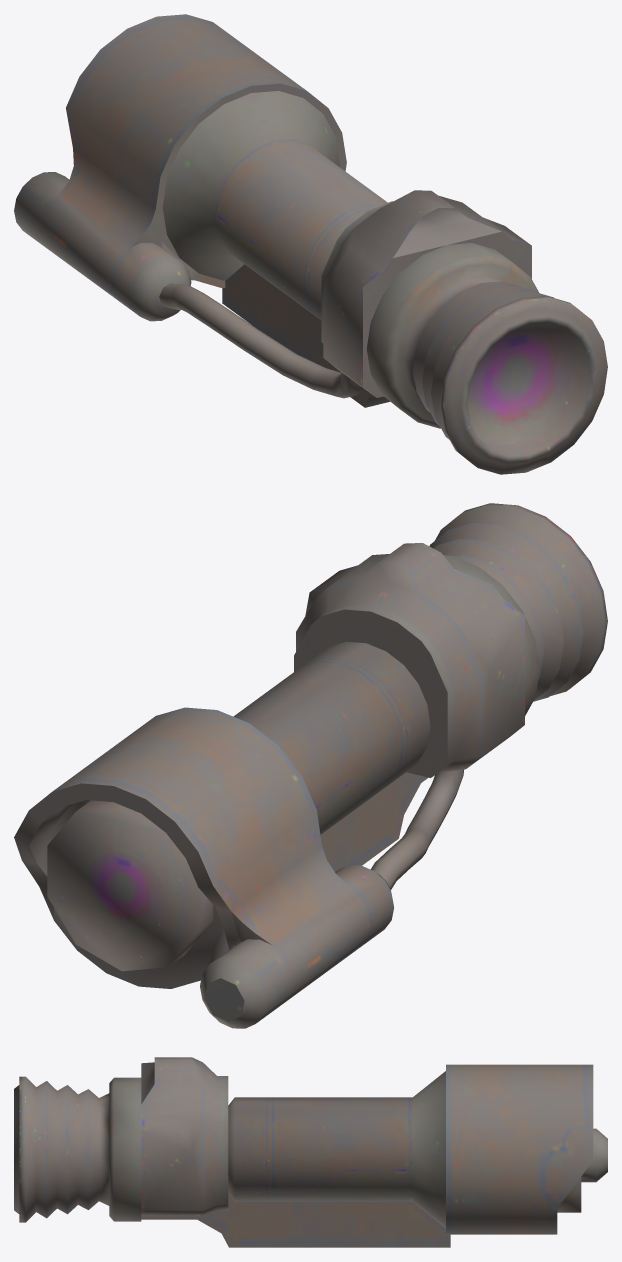
File: sight2.obj
3 views of the same model, one above another, from view 1: azimuth 30°, elevation 25°; view 2: azimuth 150°, elevation 25°; view 3: azimuth 270°, elevation 25° (orthographic). The views are drawn at different scales.
Visible parts, largest first — view 1: sight2; view 2: sight2; view 3: sight2.
Part boxes in pixels (x1,y1,x2,y2): sight2: [14, 14, 607, 474]; sight2: [14, 503, 607, 1028]; sight2: [14, 1057, 607, 1247].
Size of the model in its own units: 10.5 by 9.72 by 29.43.
